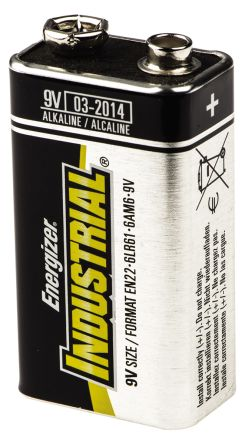9V: (5, 8, 234, 435)
